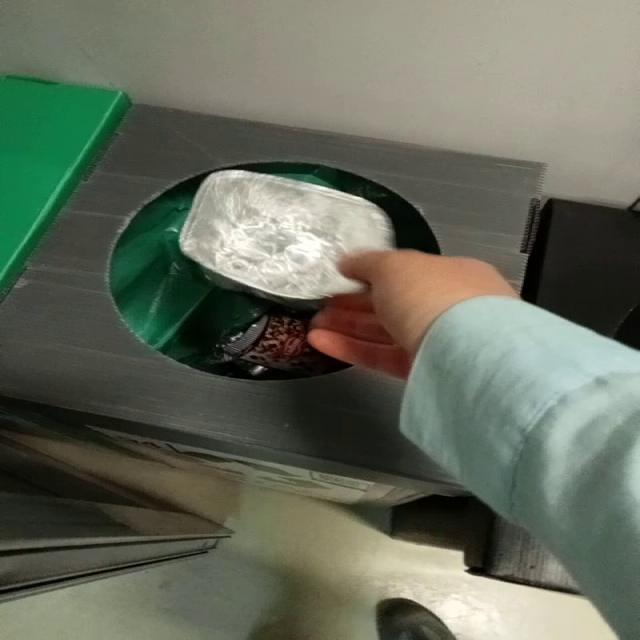bin: (1, 105, 545, 504)
metal: (179, 169, 396, 310)
